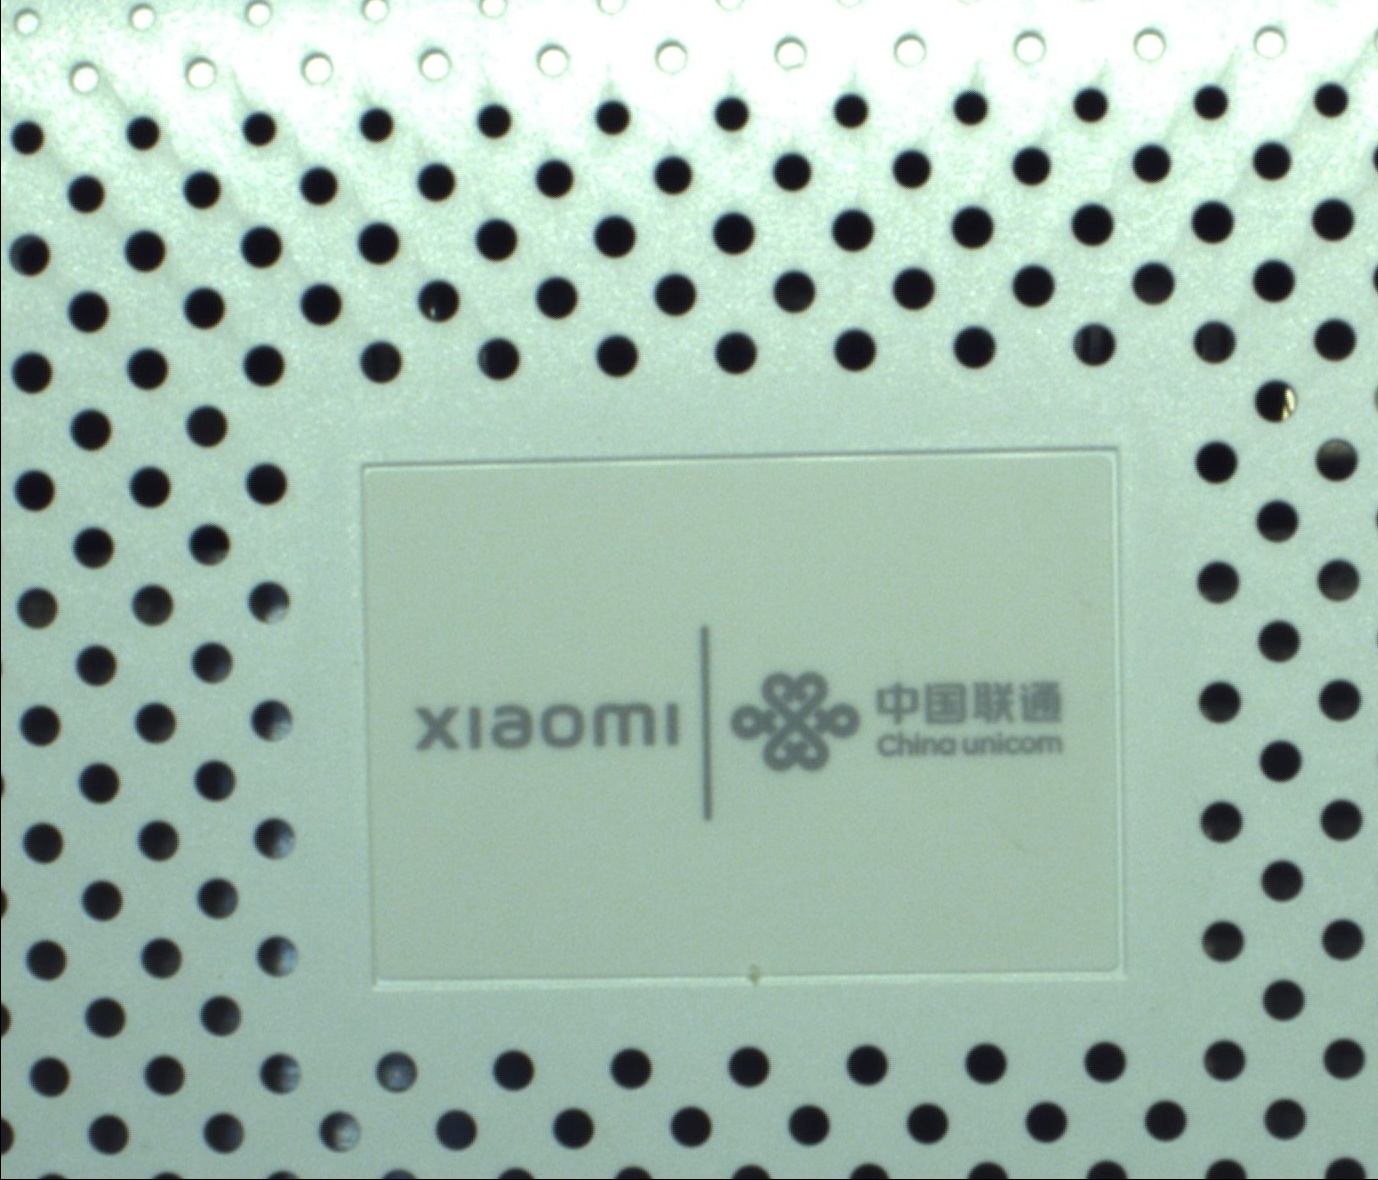MAC_NewUnicom: (407, 627, 1068, 824)
